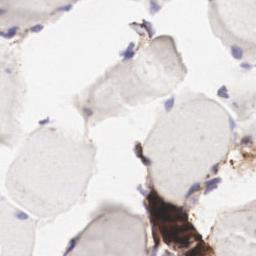nucleus: (203, 177, 223, 195), (119, 43, 136, 61), (216, 85, 230, 100), (2, 26, 21, 37), (231, 46, 243, 61), (135, 183, 148, 196), (29, 23, 45, 33), (149, 1, 160, 15), (165, 95, 174, 111), (146, 21, 156, 35), (64, 241, 75, 253), (15, 211, 29, 220), (55, 5, 73, 12), (37, 117, 52, 125), (239, 62, 253, 70), (229, 118, 237, 131), (190, 182, 201, 190), (150, 248, 160, 255), (242, 137, 252, 143), (86, 108, 92, 116), (213, 165, 216, 171), (1, 9, 4, 15)
positive_cell: (238, 132, 255, 174), (135, 143, 152, 166), (186, 183, 201, 198)
